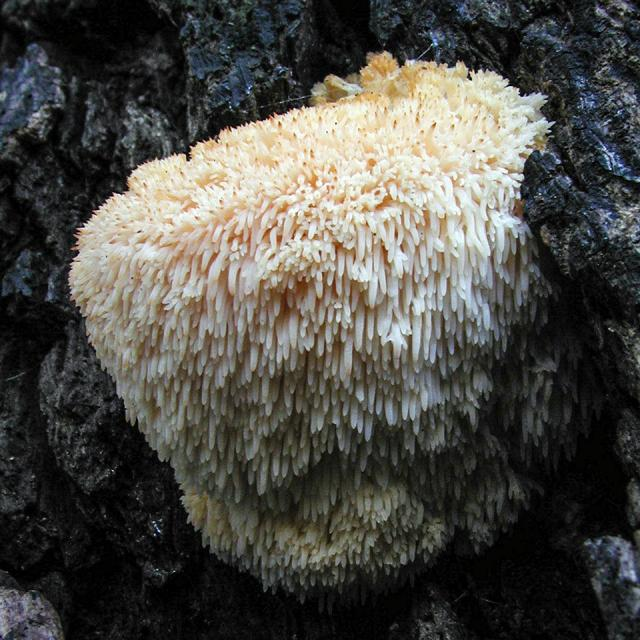Hericium erinaceus: (67, 52, 569, 584)
